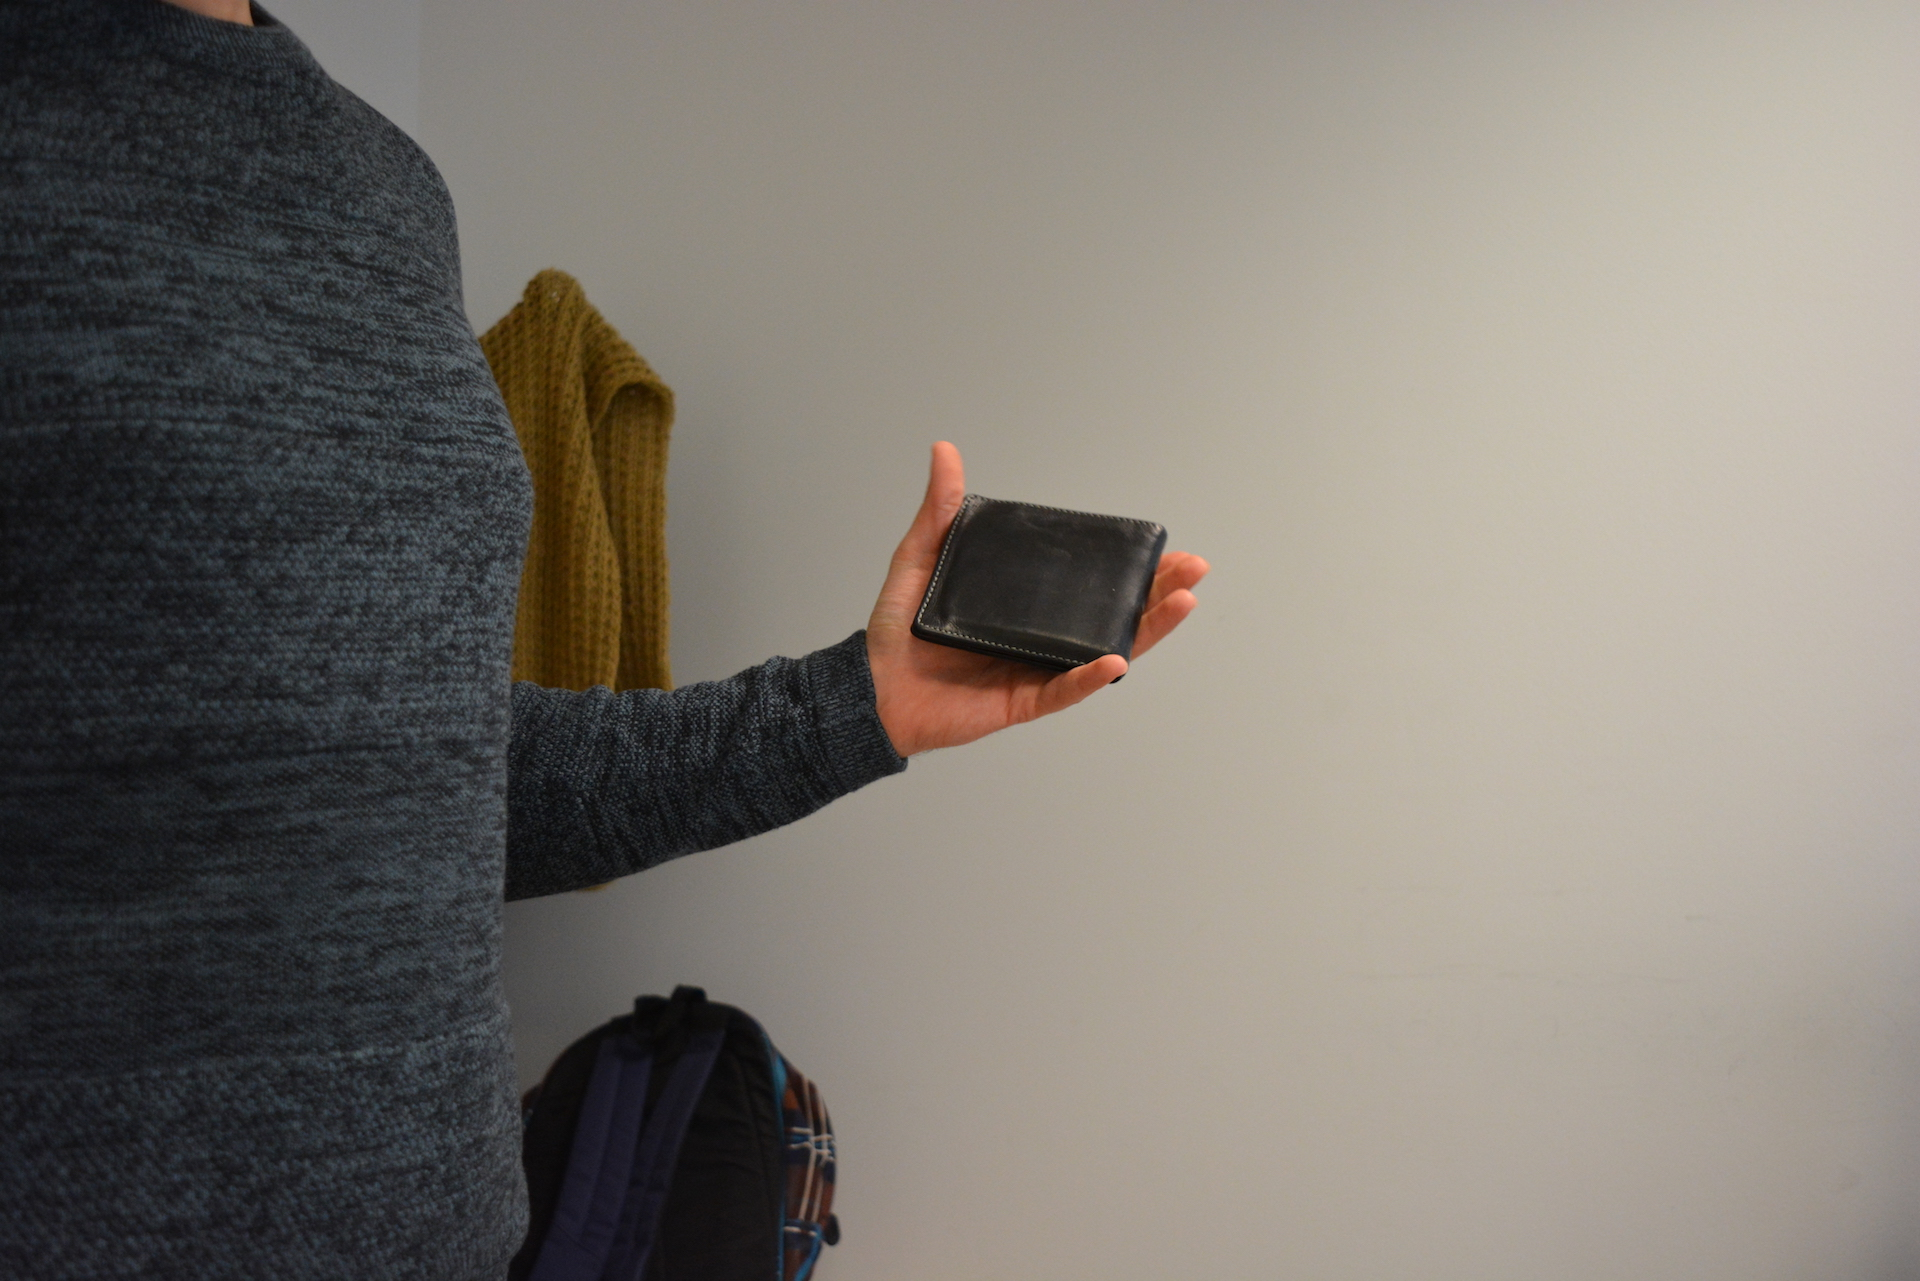monedero: (908, 492, 1168, 686)
